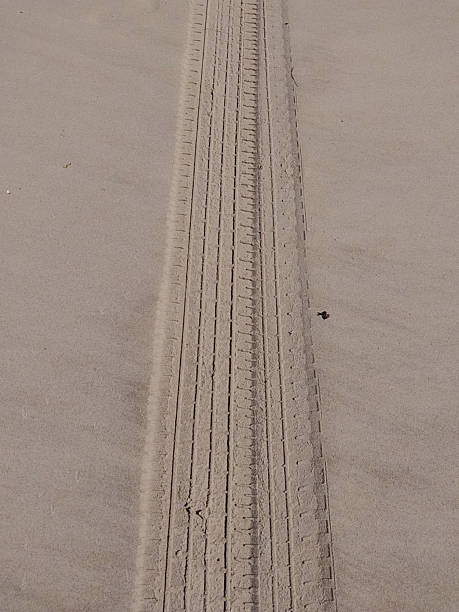vehicle_track: (134, 0, 335, 611)
